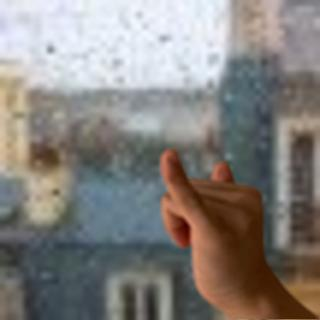HAVE: (135, 137, 292, 315)
